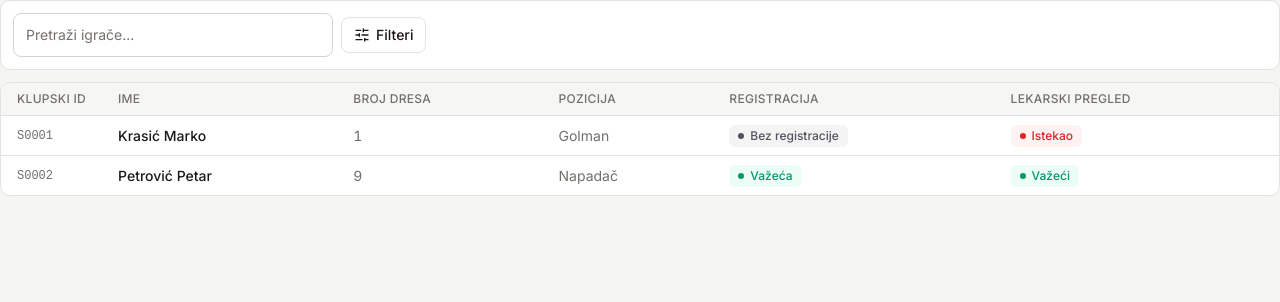
Scenario: TeamRoster position filter › filters by position instantly and counts it as an active filter
The width and height of the screenshot is (1280, 302).
Click the button "Filteri": (384, 35) left=341, top=17, right=426, bottom=53
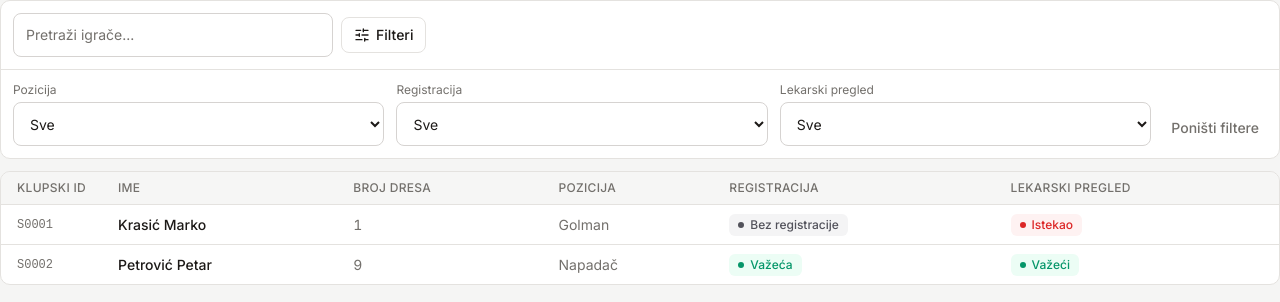
Select "Golman" in the dropdown labelled "Pozicija": (199, 124) left=13, top=102, right=384, bottom=146
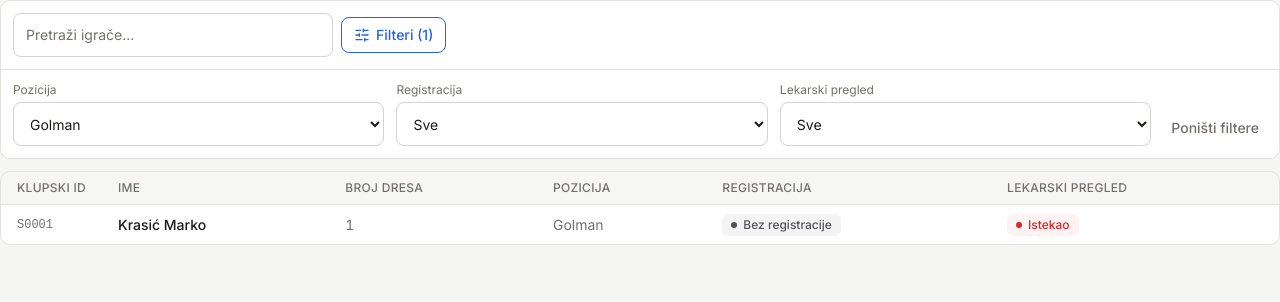
Expected: the link "Krasić Marko" is shown, left=118, top=216, right=206, bottom=232
Expected: no links "Petrović Petar" are shown
Expected: the button "Filteri (1)" is shown, left=341, top=17, right=446, bottom=53
